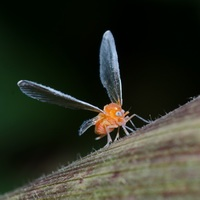insect: (17, 30, 150, 143)
